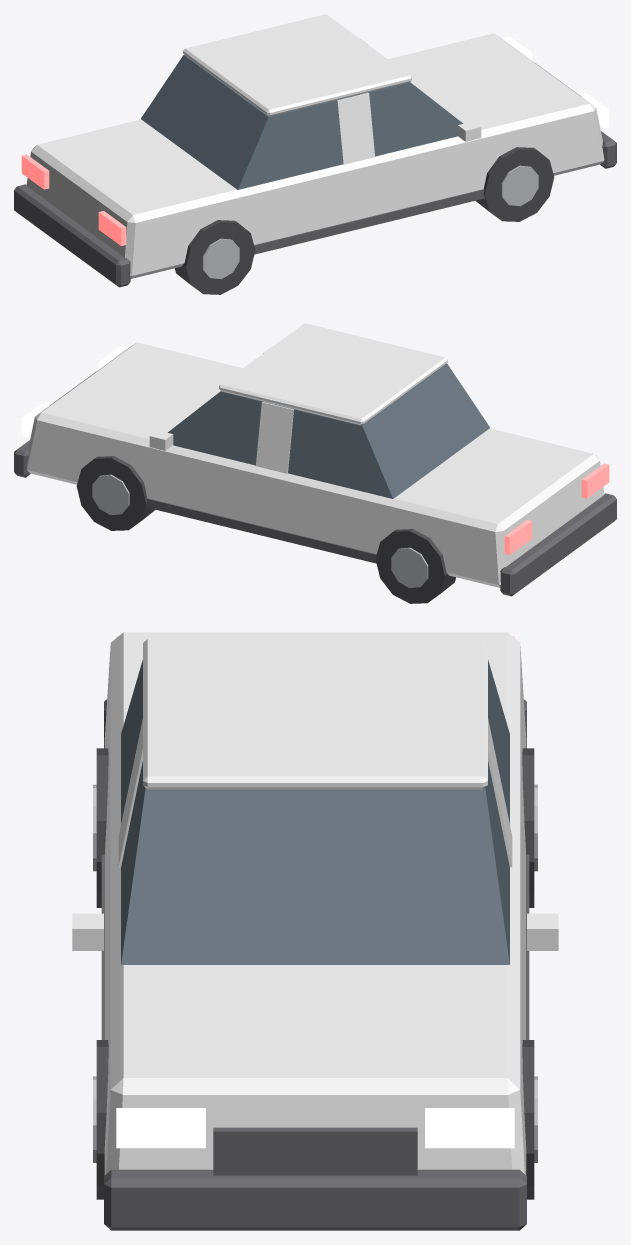
File: car_sedan.glb
3 views of the same model, one above another, from view 1: azimuth 30°, elevation 25°; view 2: azimuth 150°, elevation 25°; view 3: azimuth 270°, elevation 25° (orthographic). The views are drawn at different scales.
Parts seen in each view (by area): view 1: body, cabin, roof, bumperR, tyre0-1, tyre1-1, sill, pillarR, hub1-1, hub0-1, tail1, tail-1 (+3 smaller); view 2: body, cabin, roof, bumperR, tyre01, tyre11, sill, pillarL, hub11, hub01, tail1, tail-1 (+3 smaller); view 3: body, cabin, roof, bumperF, grille, head1, head-1, tyre1-1, tyre11, tyre0-1, tyre01, sill (+4 smaller).
Part boxes in pixels (left/top/right/bottom): body: left=26, top=33, right=604, bottom=278; cabin: left=141, top=54, right=463, bottom=189; roof: left=183, top=14, right=411, bottom=116; bumperR: left=14, top=184, right=130, bottom=287; tyre0-1: left=175, top=220, right=255, bottom=294; tyre1-1: left=475, top=147, right=554, bottom=221; sill: left=254, top=189, right=484, bottom=254; pillarR: left=337, top=92, right=375, bottom=164; hub1-1: left=501, top=165, right=538, bottom=206; hub0-1: left=202, top=238, right=239, bottom=279; tail1: left=21, top=154, right=49, bottom=189; tail-1: left=98, top=211, right=126, bottom=245; body: left=26, top=342, right=604, bottom=587; cabin: left=167, top=363, right=489, bottom=498; roof: left=219, top=323, right=447, bottom=425; bumperR: left=500, top=493, right=616, bottom=596; tyre01: left=375, top=529, right=455, bottom=603; tyre11: left=76, top=456, right=155, bottom=530; sill: left=146, top=498, right=376, bottom=563; pillarL: left=255, top=402, right=293, bottom=473; hub11: left=92, top=474, right=129, bottom=515; hub01: left=391, top=547, right=428, bottom=588; tail1: left=504, top=520, right=532, bottom=554; tail-1: left=581, top=463, right=609, bottom=498; body: left=104, top=632, right=526, bottom=1175; cabin: left=121, top=660, right=509, bottom=964; roof: left=143, top=638, right=487, bottom=789; bumperF: left=104, top=1169, right=526, bottom=1230; grille: left=213, top=1127, right=417, bottom=1175; head1: left=425, top=1108, right=514, bottom=1148; head-1: left=116, top=1108, right=205, bottom=1148; tyre1-1: left=96, top=1040, right=108, bottom=1199; tyre11: left=522, top=1040, right=534, bottom=1199; tyre0-1: left=96, top=748, right=108, bottom=907; tyre01: left=522, top=748, right=534, bottom=907; sill: left=101, top=854, right=529, bottom=1039.
Bounding box in the file's own units: 4.76 × 1.46 × 2.
